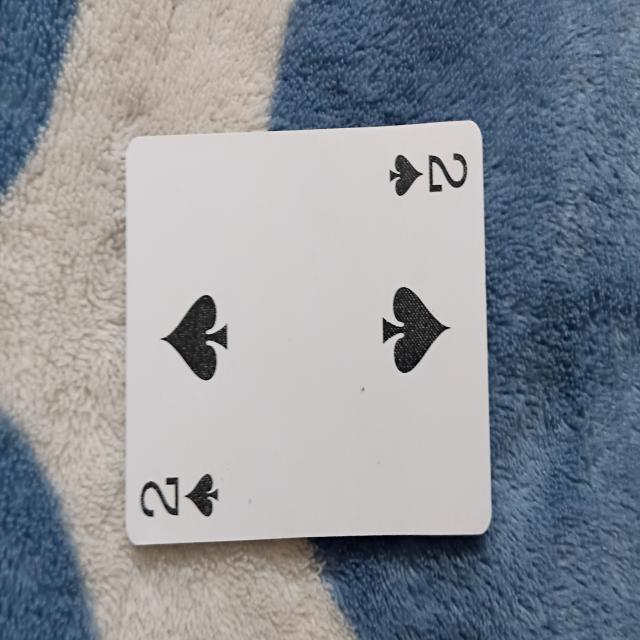2S: (126, 138, 490, 552)
